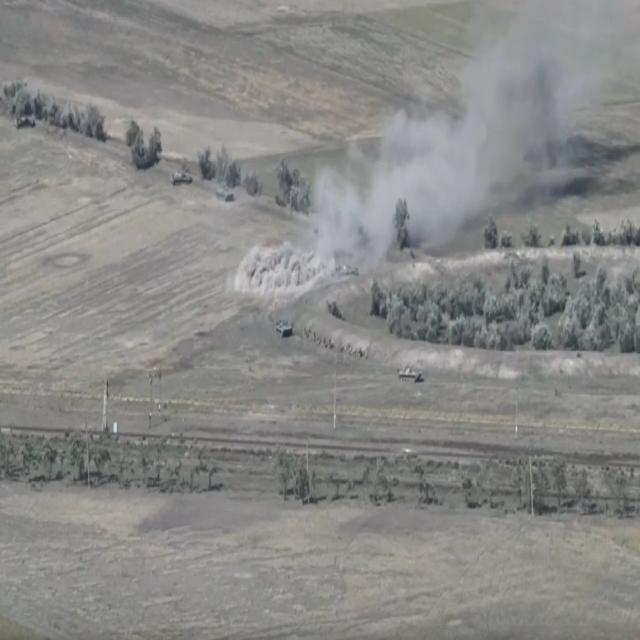AIFV: (395, 365, 425, 388), (272, 316, 296, 342), (169, 168, 195, 188), (14, 112, 38, 132), (335, 263, 361, 281), (216, 183, 237, 204)
